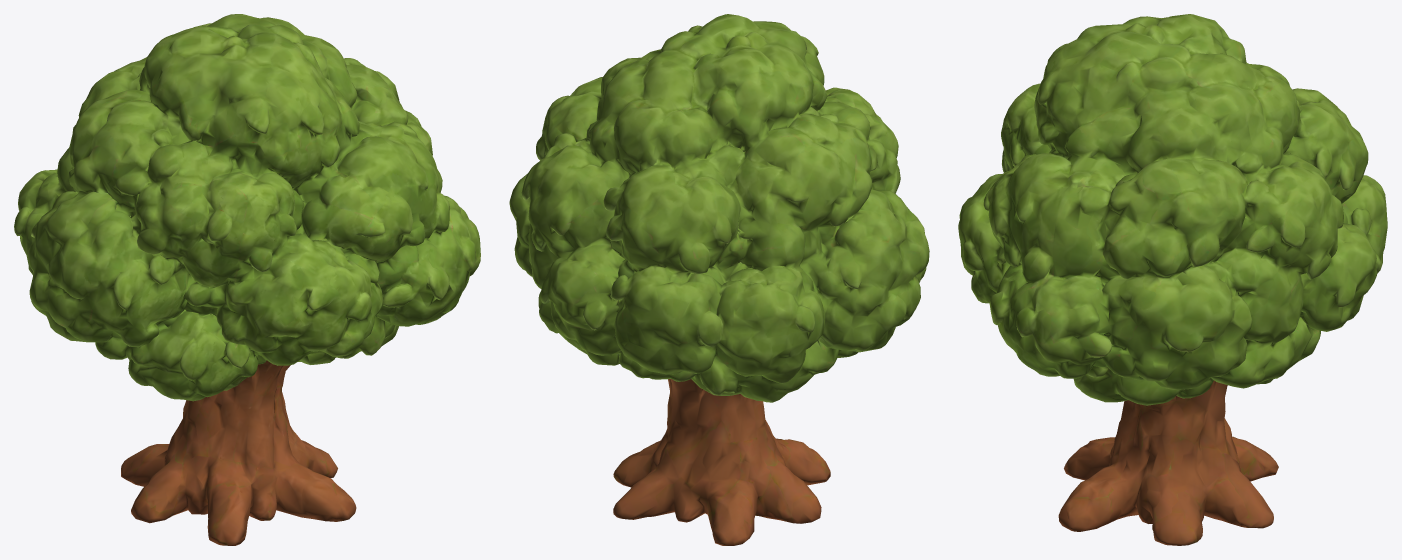
Rendered from tree-medium.glb.
The picture shows the model from 3 angles, left to right: view 1: azimuth 30°, elevation 25°; view 2: azimuth 150°, elevation 25°; view 3: azimuth 270°, elevation 25°; orthographic projection. The views are drawn at different scales.
Size of the model in its own units: 1.68 by 1.9 by 1.59.
Materials: 1 (1 with a texture image).
